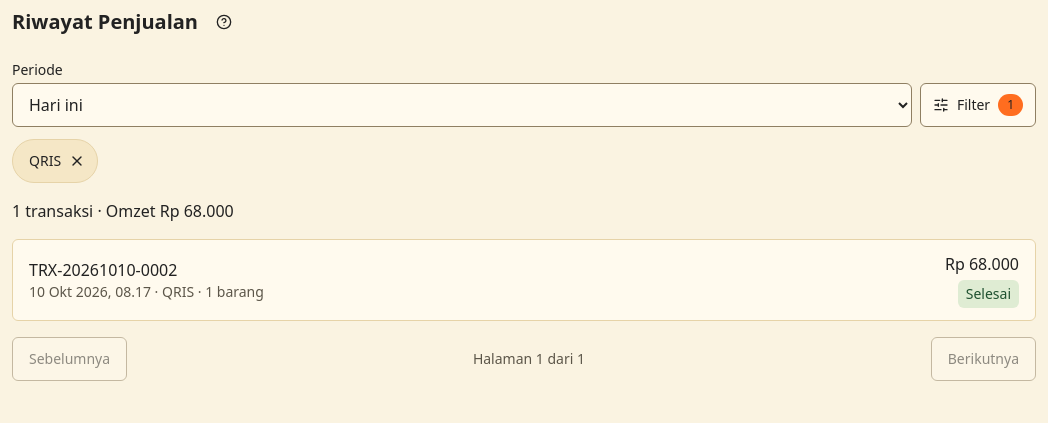
Test case: SaleHistoryPage › di HP › filter metode tampil sebagai chip yang bisa dihapus, dan periode tetap terlihat
Expected: the text "1 transaksi · Omzet Rp 68.000" is shown, [12,200,234,222]
Expected: the dropdown labelled "Periode" is shown, [12,83,912,127]
Click the button with aria-label "Hapus filter Metode bayar: QRIS".
click(55, 161)  # box [12,139,98,183]
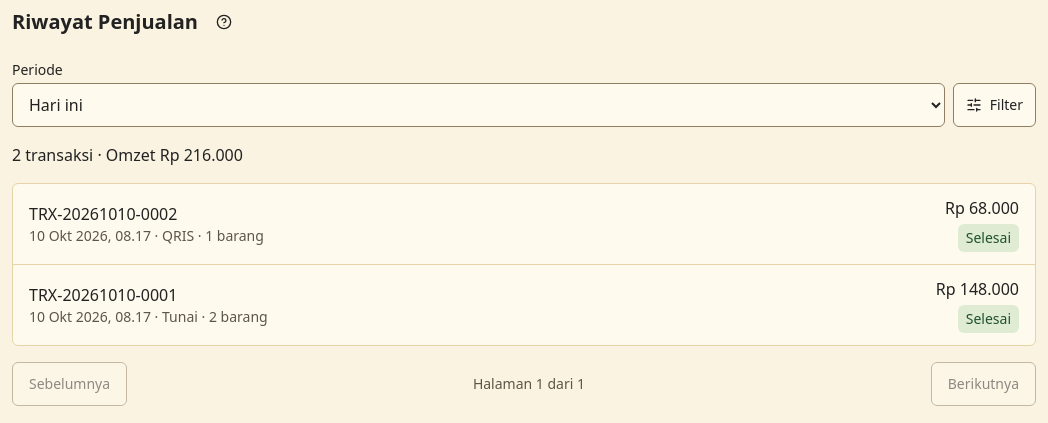
Result: the text "2 transaksi · Omzet Rp 216.000" is shown at [12,144,243,166]
